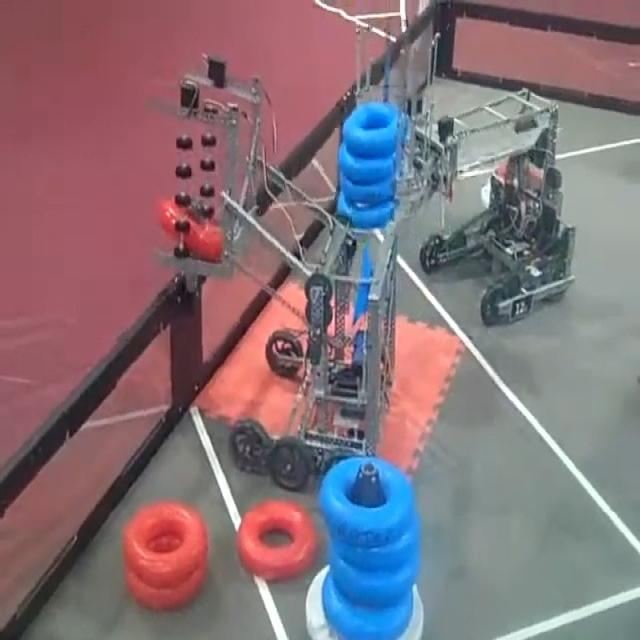Blue-Ring: (320, 457, 415, 546), (322, 573, 411, 638), (330, 545, 419, 606), (331, 518, 419, 570), (342, 103, 399, 158), (338, 194, 399, 233), (339, 143, 395, 185), (341, 176, 394, 206)
Red-Ring: (124, 502, 208, 588), (238, 500, 316, 580), (160, 193, 224, 261), (125, 565, 206, 610)
